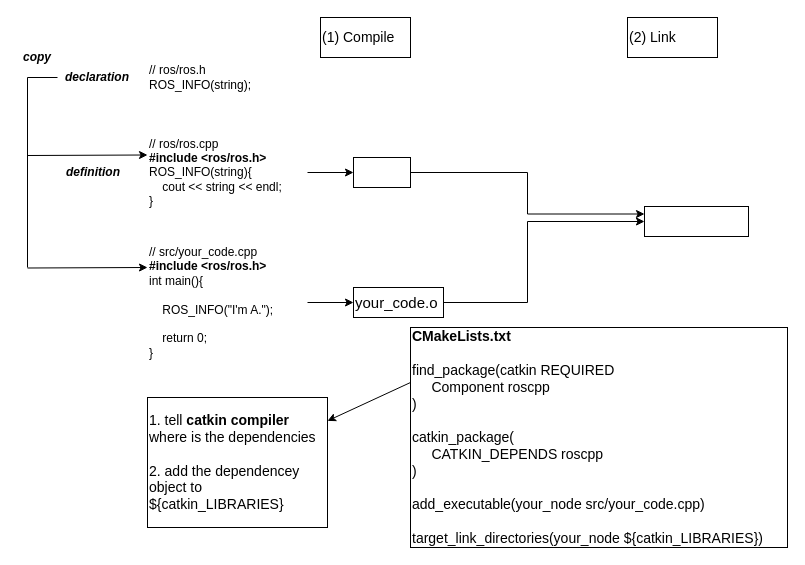
The diagram is 805 pixels wide and 565 high, and some of its shapes have lost their labels. The centre of each missing label's shape, as x and y in pixels:
"executable_file" belongs at [696,221].
"ros.o" belongs at [381,172].
